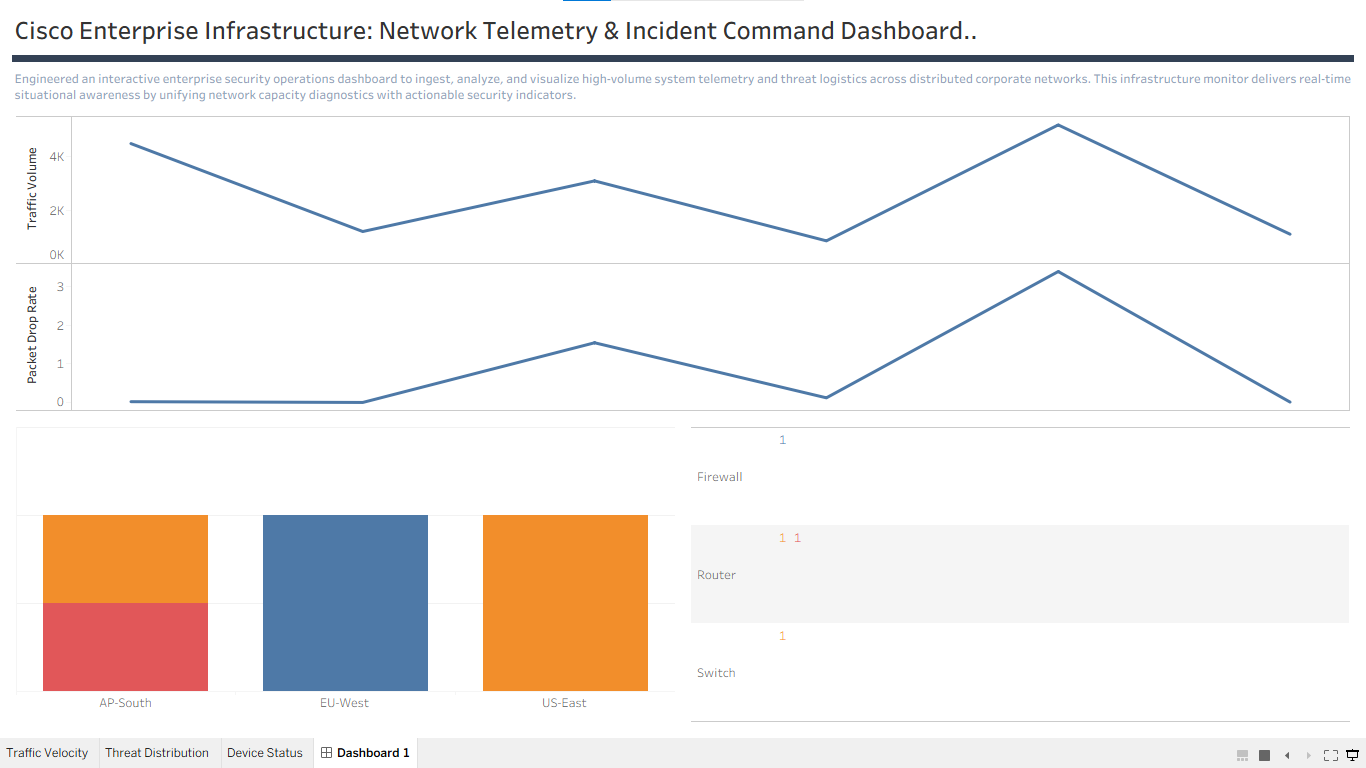

What the dashboard file says about the page in this screenshot:
{"tool":"tableau","page":{"name":"Dashboard 1","canvas":[1000,1000],"units":"permille","ordinal":0},"visuals":[{"type":"title","box":[6.9,13.5,986.1,72.6]},{"type":"blank","box":[6.9,86.1,986.1,25.3]},{"type":"text","box":[6.9,111.5,986.1,70.9]},{"type":"worksheet","title":"Traffic Velocity","mark":"Automatic","rows":["Traffic_Volume_MB","Packet_Drop_Rate"],"cols":["Timestamp"],"box":[6.9,182.4,986.1,402]},{"type":"worksheet","title":"Threat Distribution","mark":"Automatic","rows":["Sheet1_3567ACE928F84F9EB48A6EB707FE255D"],"cols":["Region"],"box":[6.9,584.5,493.5,402]},{"type":"worksheet","title":"Device Status","mark":"Automatic","rows":["Device_Type"],"box":[500.4,584.5,492.6,402]}]}

Visuals, with their boxes on the dashboard's canvas, which has no fixed pixel size, in thousandths of its width and height (x1, y1, x2, y2). These are canvas units, not pixel positions in the 1366x768 screenshot, which may show the page scaled, cropped or inside an application window:
title: 7 14 993 86
blank: 7 86 993 111
text: 7 112 993 182
"Traffic Velocity" worksheet: 7 182 993 584
"Threat Distribution" worksheet: 7 584 500 986
"Device Status" worksheet: 500 584 993 986
